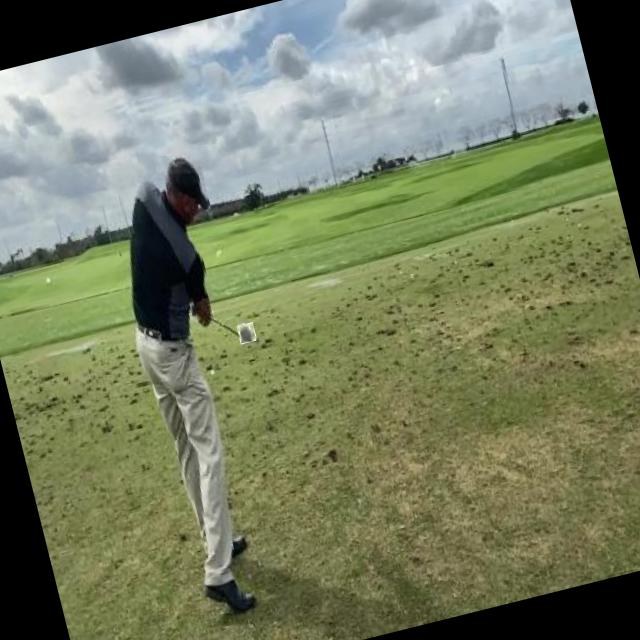club head: (236, 321, 257, 344)
